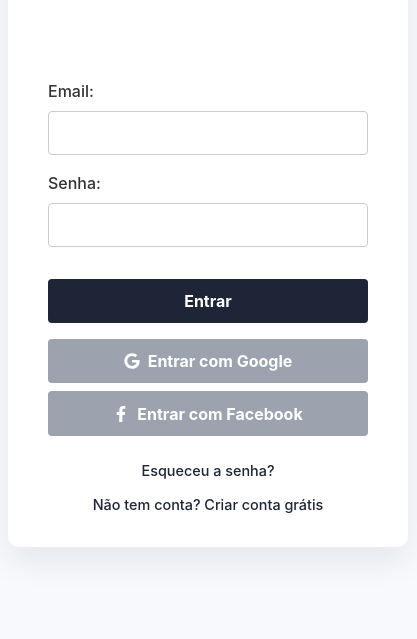
Test case: LoginPage › prefers backend detail payloads when login fails
Type "julio@teste.com" into the field labelled "Email:" at (208,133), box [48, 111, 368, 155]
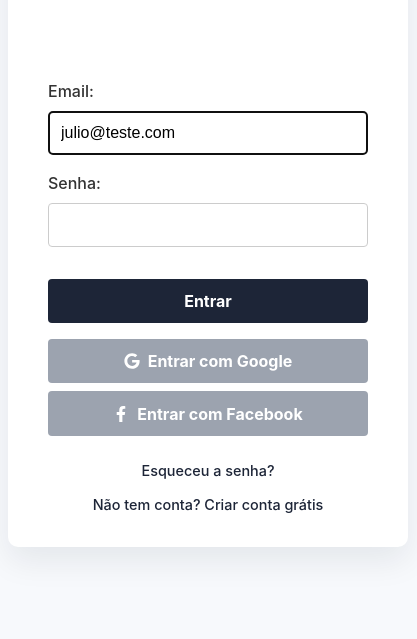
Type "senhaerrada" into the password field labelled "Senha:" at (208,225), box [48, 203, 368, 247]
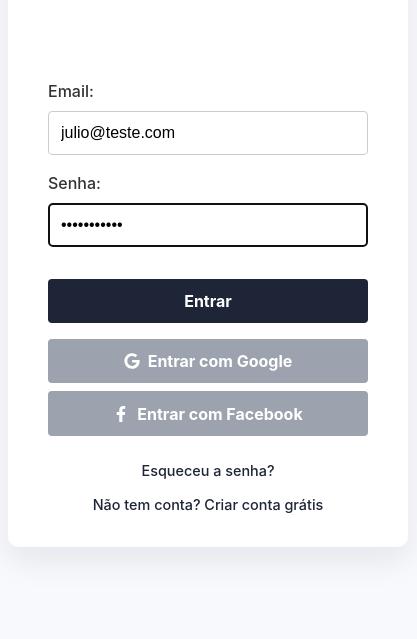
Click the button "Entrar" at (208,301), box [48, 279, 368, 323]
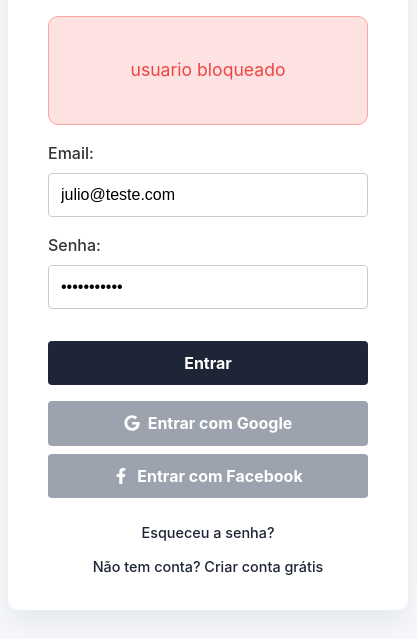
Expected: the text "usuario bloqueado" is shown, [48, 16, 368, 125]
